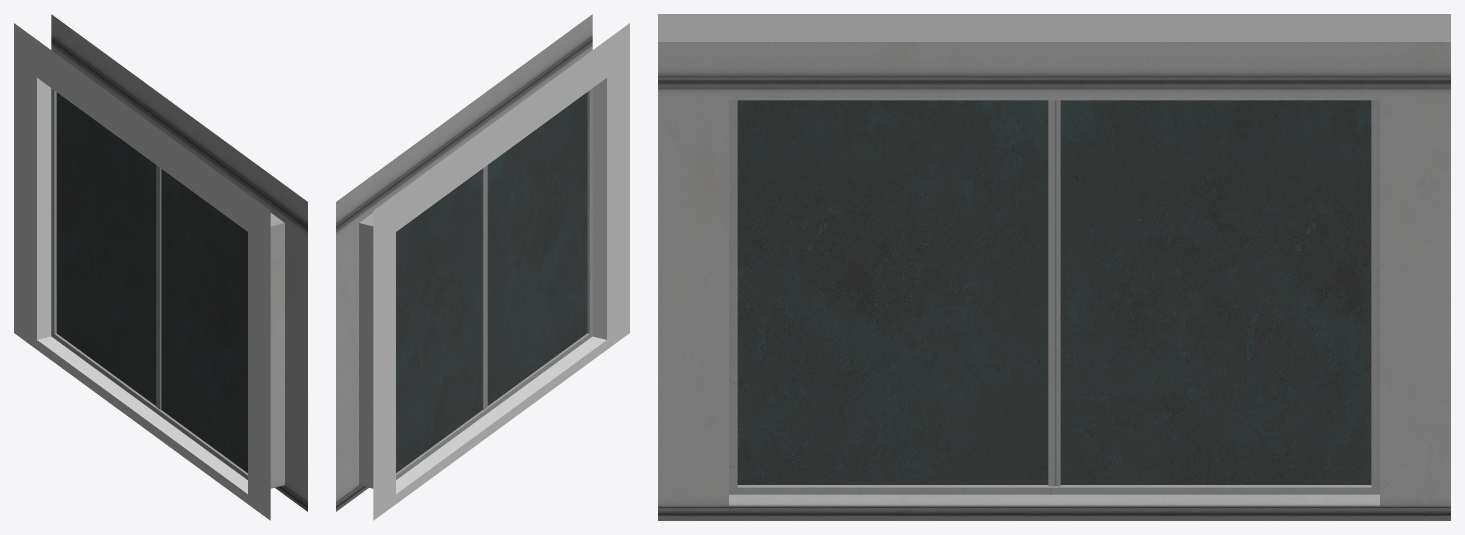
File: MB_Showcase_06.fbx
The picture shows the model from 3 angles, left to right: view 1: azimuth 30°, elevation 25°; view 2: azimuth 150°, elevation 25°; view 3: azimuth 270°, elevation 25°; orthographic projection. The views are drawn at different scales.
Visible parts, largest first — view 1: MB_Showcase_06; view 2: MB_Showcase_06; view 3: MB_Showcase_06.
Boxes of the visible parts, bbox=[...] form: MB_Showcase_06: bbox=[14, 14, 307, 520]; MB_Showcase_06: bbox=[336, 14, 629, 520]; MB_Showcase_06: bbox=[658, 14, 1450, 520].
Bounding box in the file's own units: 50 × 400 × 600.
